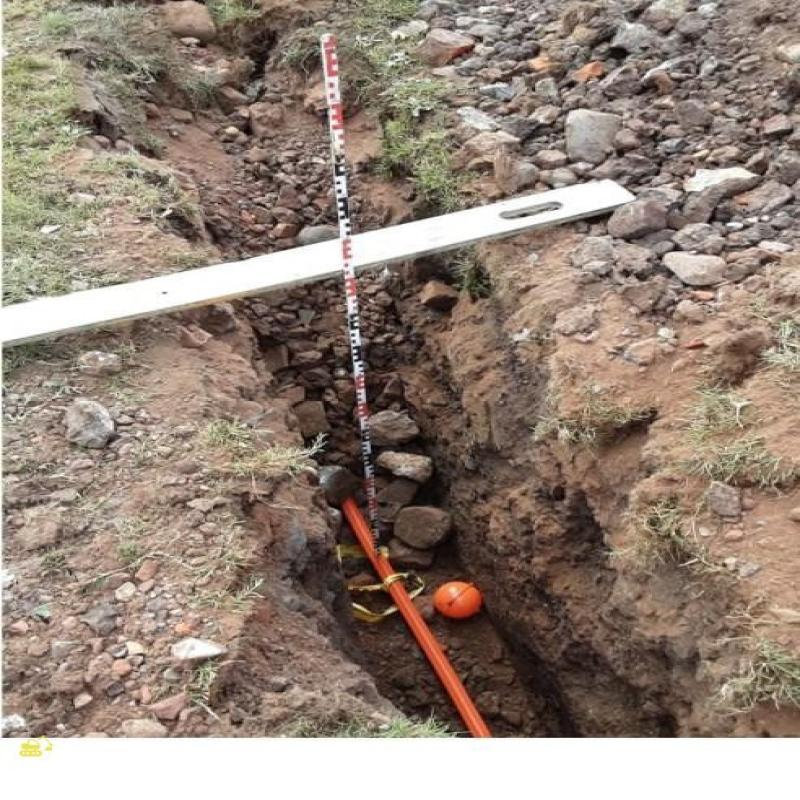Kugelmarker: (432, 579, 483, 619)
Orang-Speednetrohrchen: (335, 493, 492, 738)
